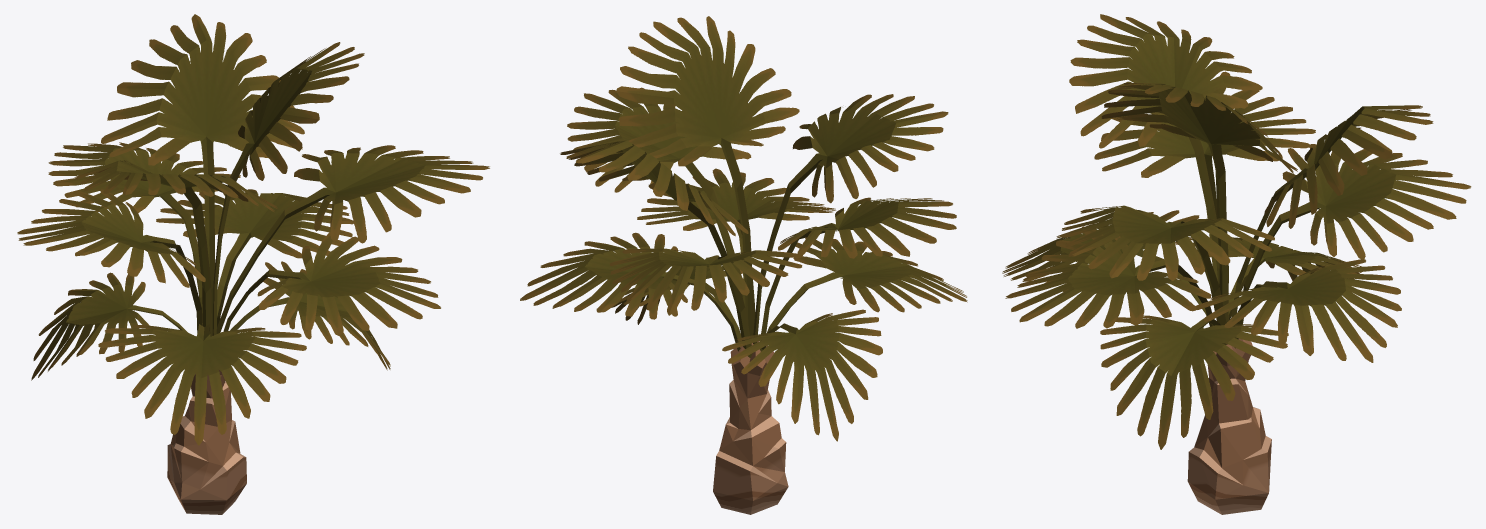
The model's file is M_guanmu01.fbx.
3 renders of one model, left to right at view 1: azimuth 30°, elevation 25°; view 2: azimuth 150°, elevation 25°; view 3: azimuth 270°, elevation 25°, orthographic. The views are drawn at different scales.
Visible parts, largest first — view 1: M_guanmu01_01, M_guanmu01_02; view 2: M_guanmu01_01, M_guanmu01_02; view 3: M_guanmu01_01, M_guanmu01_02.
Part boxes in pixels (x1=…): M_guanmu01_01: x1=17, y1=14, x2=489, y2=445; M_guanmu01_02: x1=167, y1=370, x2=246, y2=514; M_guanmu01_01: x1=520, y1=16, x2=967, y2=441; M_guanmu01_02: x1=713, y1=341, x2=788, y2=514; M_guanmu01_01: x1=1002, y1=14, x2=1471, y2=449; M_guanmu01_02: x1=1187, y1=338, x2=1271, y2=514.
Size of the model in its own units: 2.91 by 2.94 by 2.64.
